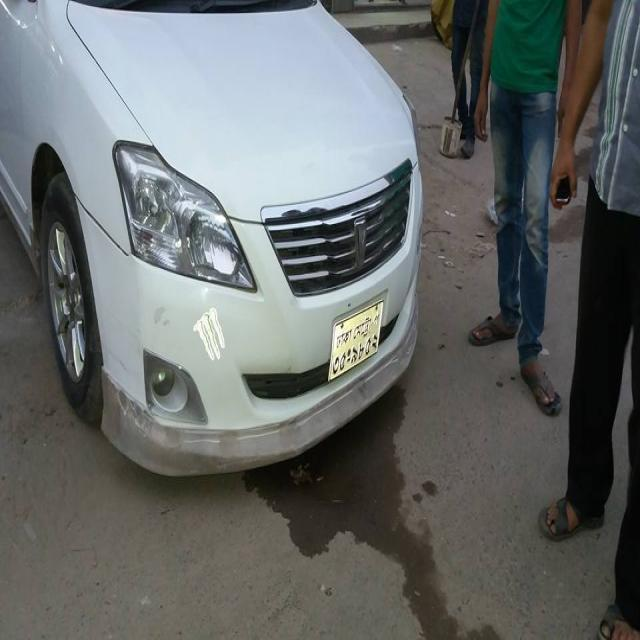numberplate: (326, 300, 384, 382)
